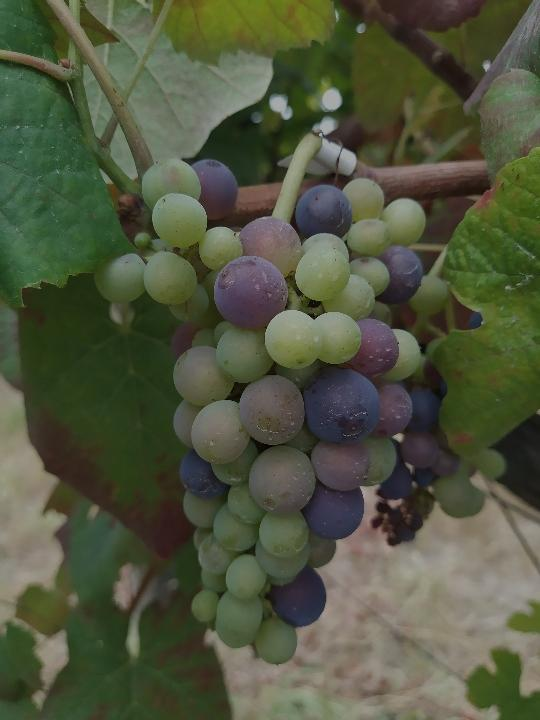grape: (90, 156, 428, 666)
